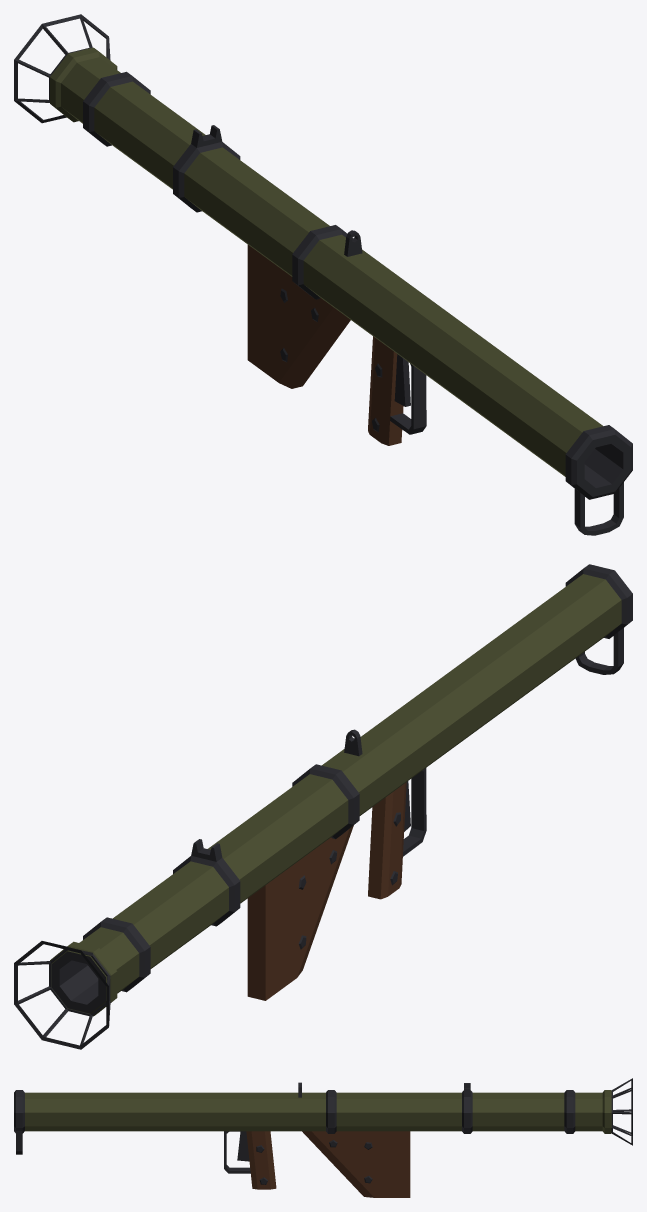
File: LPWarPack_RocketLauncher.fbx
3 renders of one model, top to bottom at view 1: azimuth 30°, elevation 25°; view 2: azimuth 150°, elevation 25°; view 3: azimuth 270°, elevation 25°, orthographic. The views are drawn at different scales.
Visible parts, largest first — view 1: RocketLauncher; view 2: RocketLauncher; view 3: RocketLauncher.
Part boxes in pixels (bbox=[...]): RocketLauncher: bbox=[14, 14, 632, 535]; RocketLauncher: bbox=[14, 564, 632, 1049]; RocketLauncher: bbox=[14, 1078, 632, 1197].
Bounding box in the file's own units: 10.72 × 21.24 × 106.
